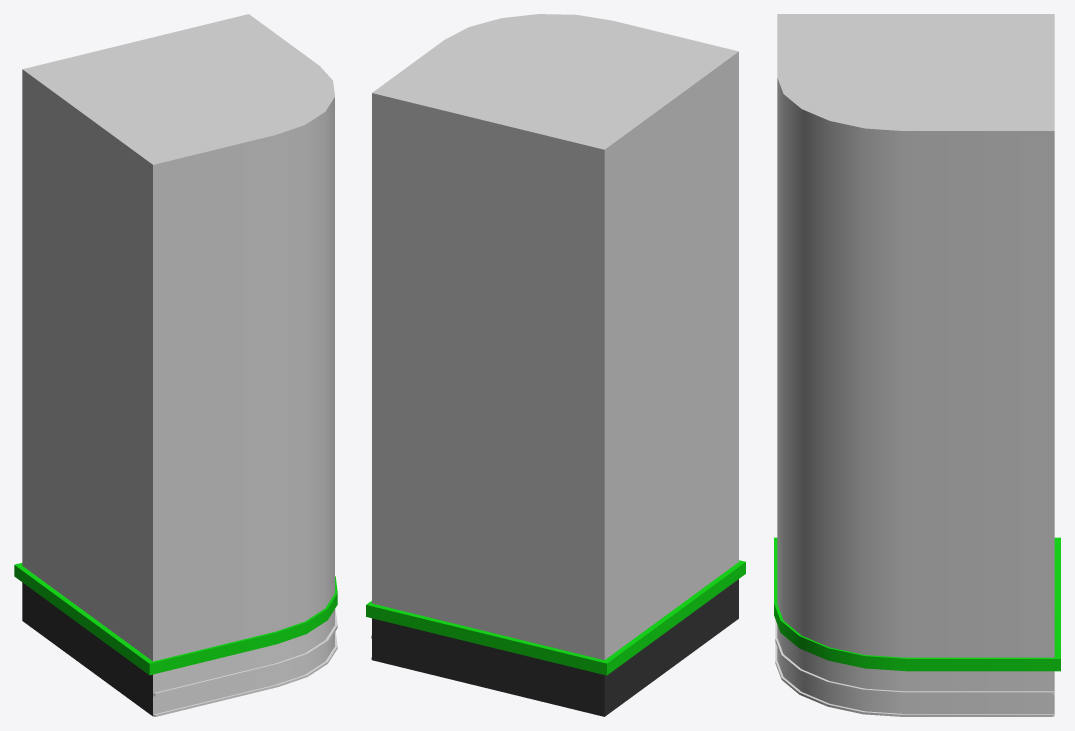
The model's file is building6.fbx.
3 views of the same model, side by side, from view 1: azimuth 30°, elevation 25°; view 2: azimuth 150°, elevation 25°; view 3: azimuth 270°, elevation 25° (orthographic). The views are drawn at different scales.
Parts seen in each view (by area): view 1: Cube.005; view 2: Cube.005; view 3: Cube.005.
Boxes of the visible parts, x1,y1,x2,y2 form: Cube.005: (14, 14, 337, 716); Cube.005: (366, 14, 745, 716); Cube.005: (774, 14, 1060, 716).
Size of the model in its own units: 2000 by 4500 by 2000.
